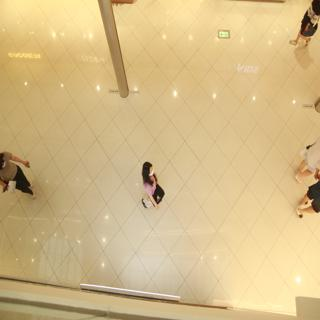person: (1, 144, 54, 202), (137, 156, 171, 212), (291, 1, 320, 57)
